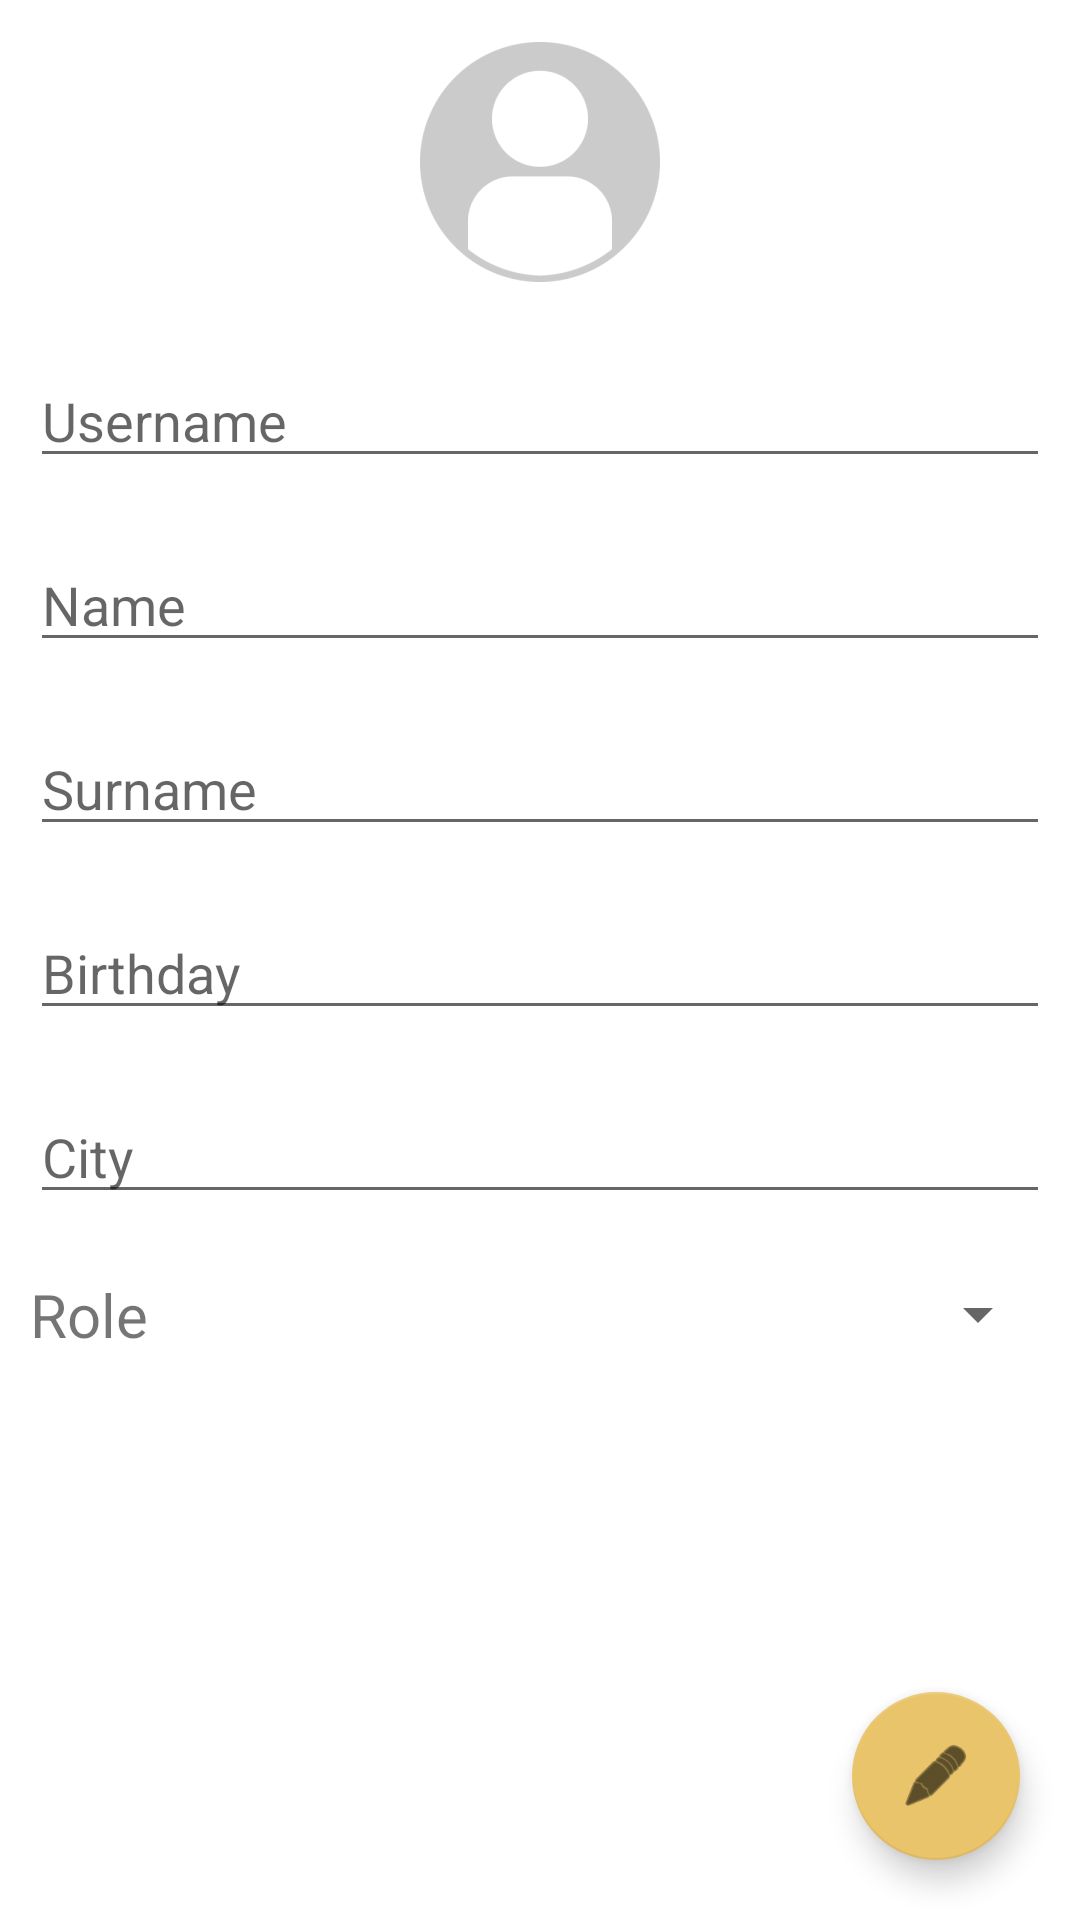

Point at icon controls on the screen. Image size 1080 × 1920, points as (x,y).
edit: (936,1776)
